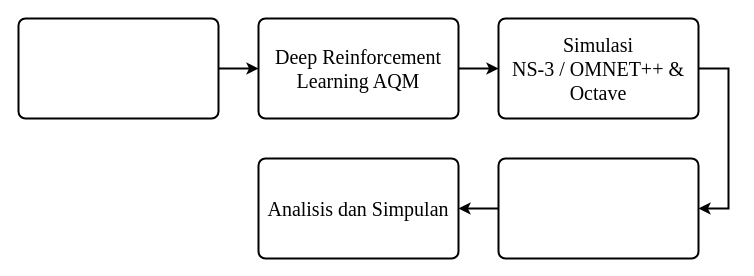
Some shapes in this 754 by 276 pixel diagram are drawn without their labels. Here are the shapes that lost their labels. From the top down, the centre of each, then its label:
At point (118, 68): "Pengujian pra-improvisasi".
At point (598, 208): "Pengujian pasca-improvisasi".
